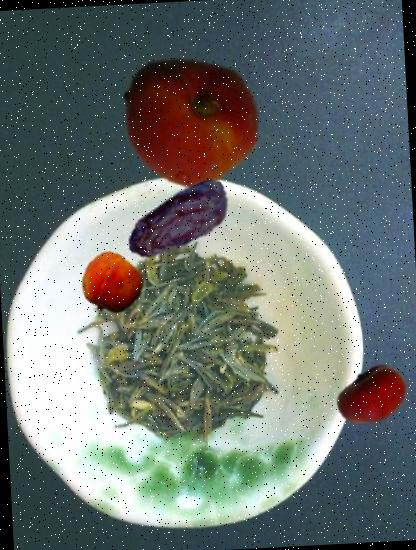Dates: (120, 162, 240, 282)
Nectarine: (115, 47, 264, 196), (334, 358, 410, 434)
Peach: (80, 252, 143, 316)
